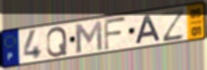4: (22, 28, 43, 62)
A: (134, 14, 162, 46)
F: (103, 16, 128, 52)
M: (73, 20, 105, 55)
Q: (45, 25, 68, 59)
Z: (161, 6, 187, 43)
